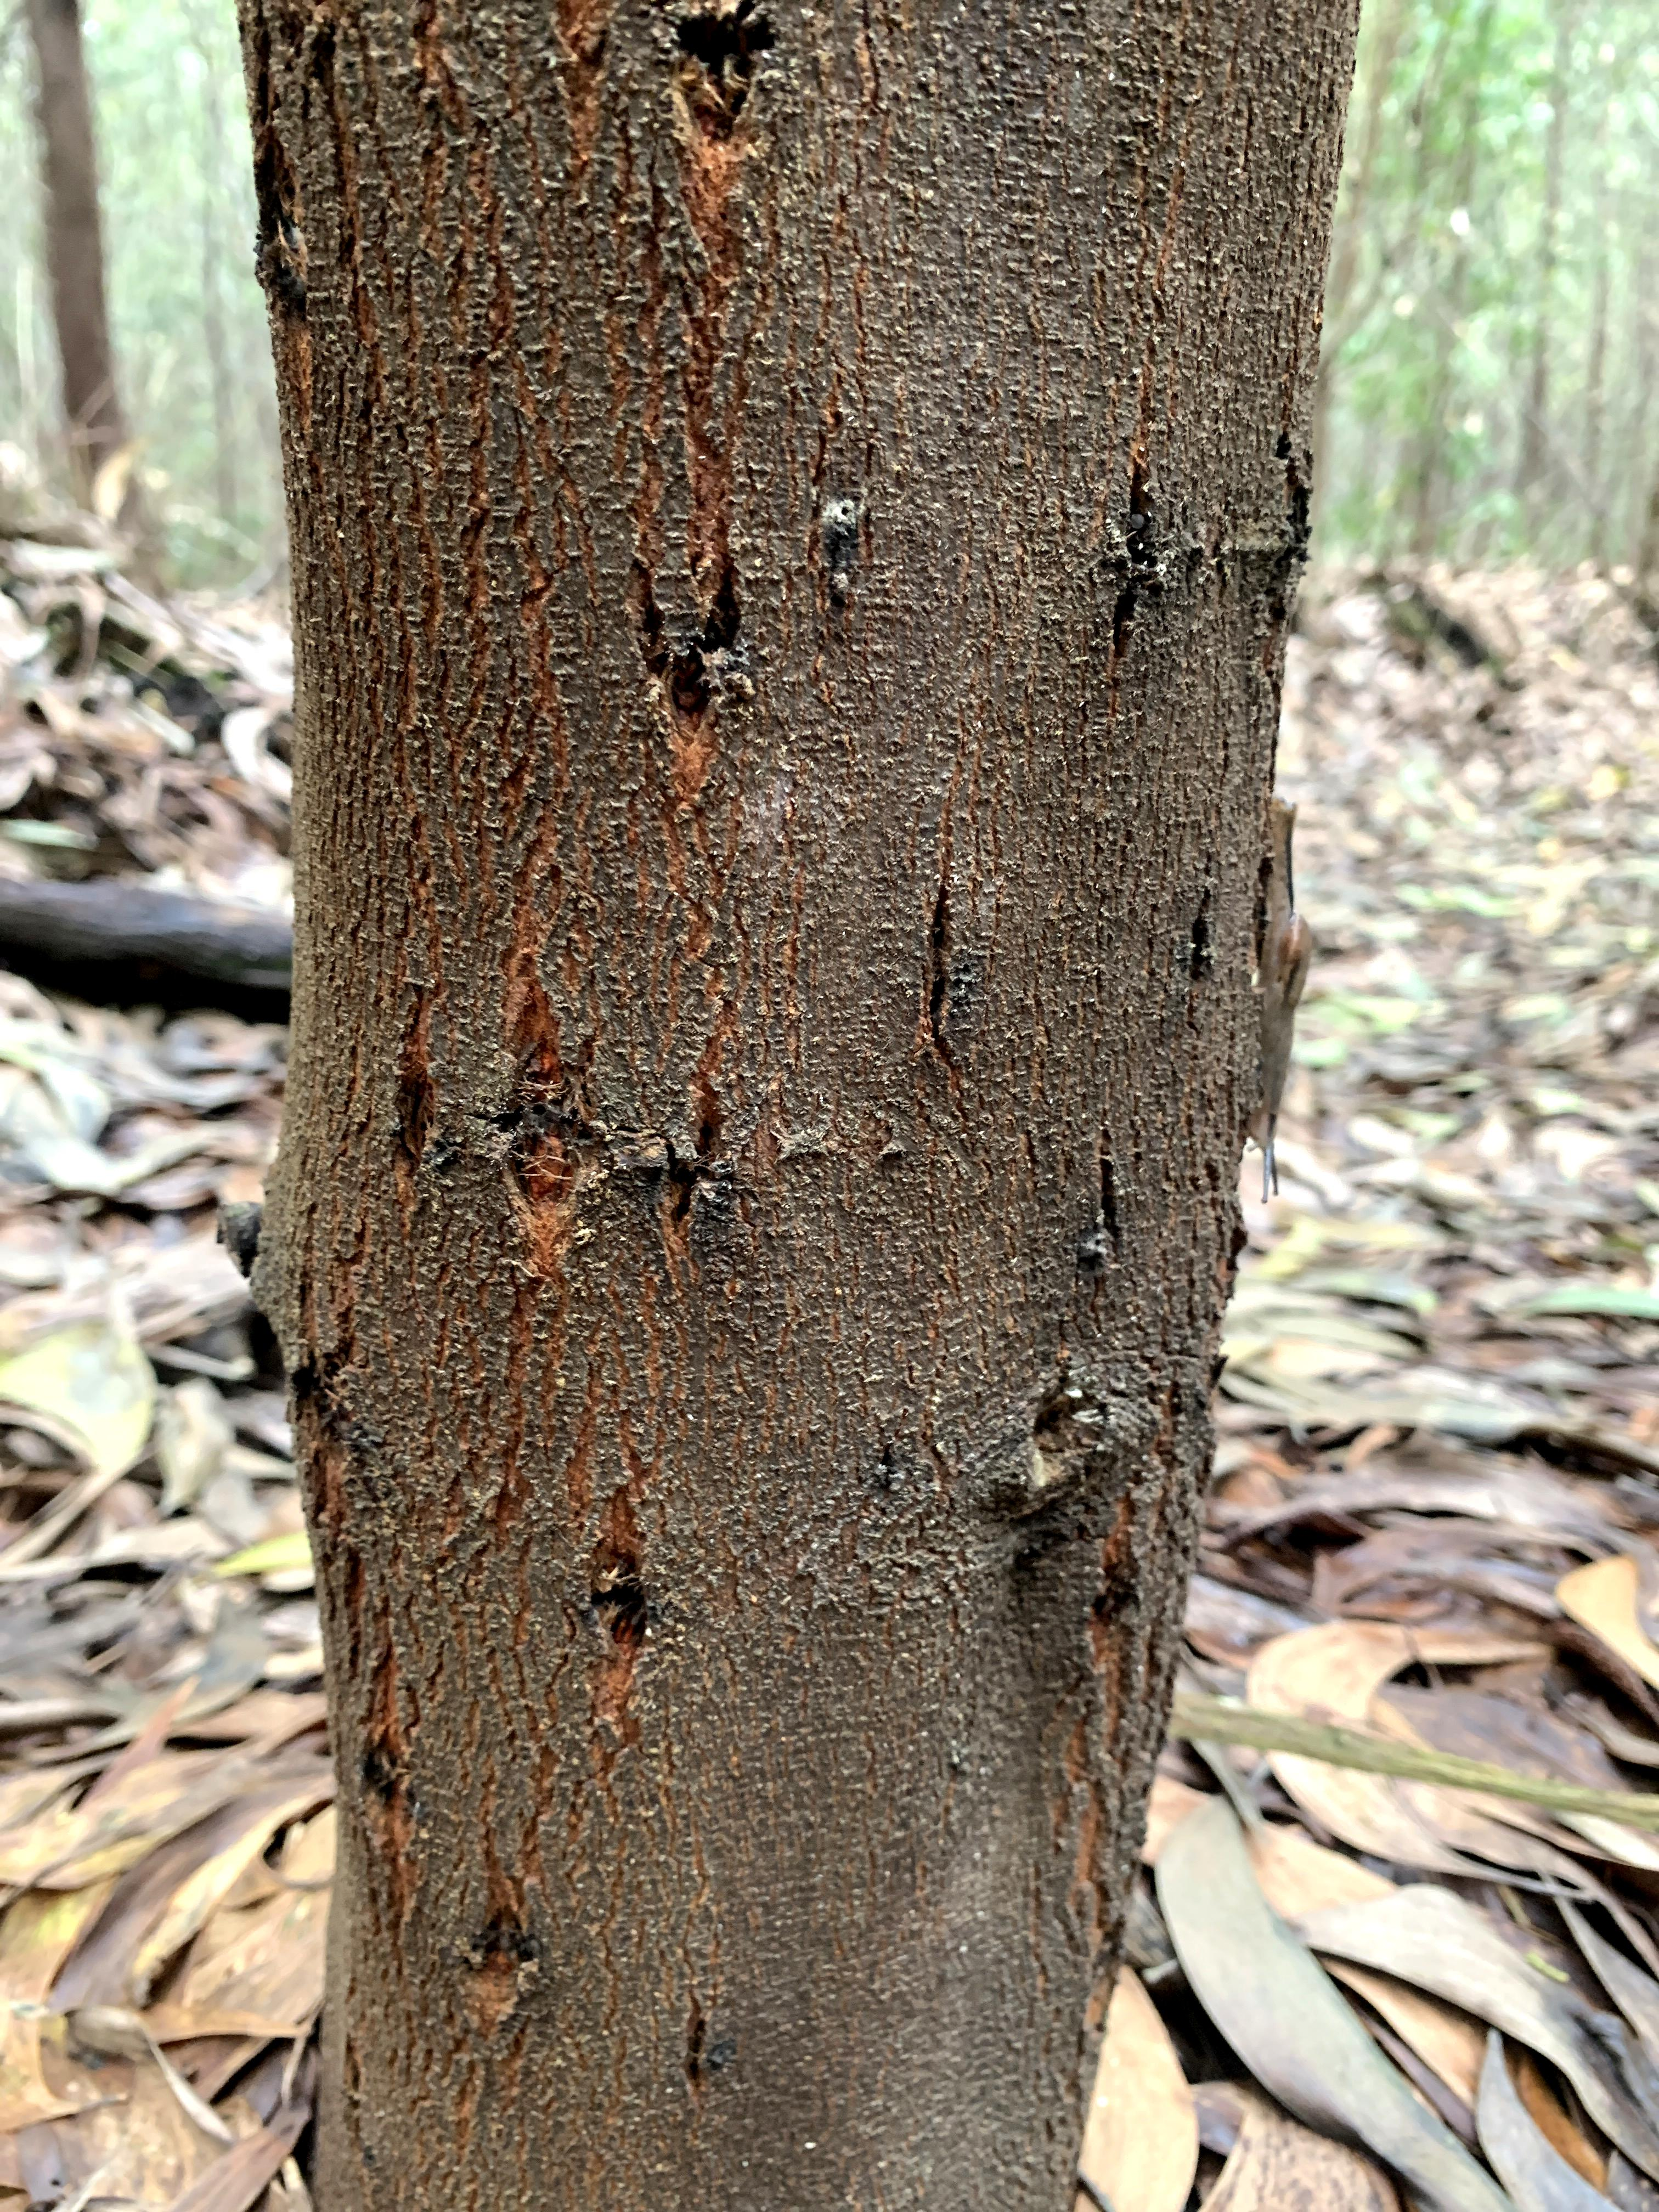Stem Borer: (479, 977, 606, 1282), (636, 0, 845, 172), (606, 549, 765, 756), (275, 1348, 390, 1578), (566, 1503, 671, 1747), (1093, 451, 1183, 636), (666, 1069, 741, 1271), (803, 441, 887, 601), (911, 874, 981, 1064), (1265, 401, 1319, 636), (669, 1968, 749, 2106), (385, 1042, 443, 1209), (1182, 873, 1237, 1040), (1063, 1188, 1140, 1303), (1000, 1512, 1065, 1616), (462, 1909, 551, 1977), (338, 1763, 439, 1820)
